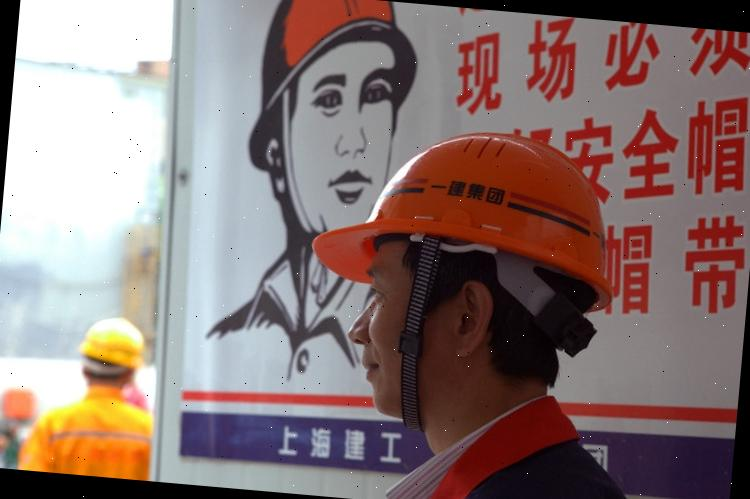helmet: (304, 112, 647, 307), (76, 313, 156, 370)
wear: (30, 391, 158, 480)
